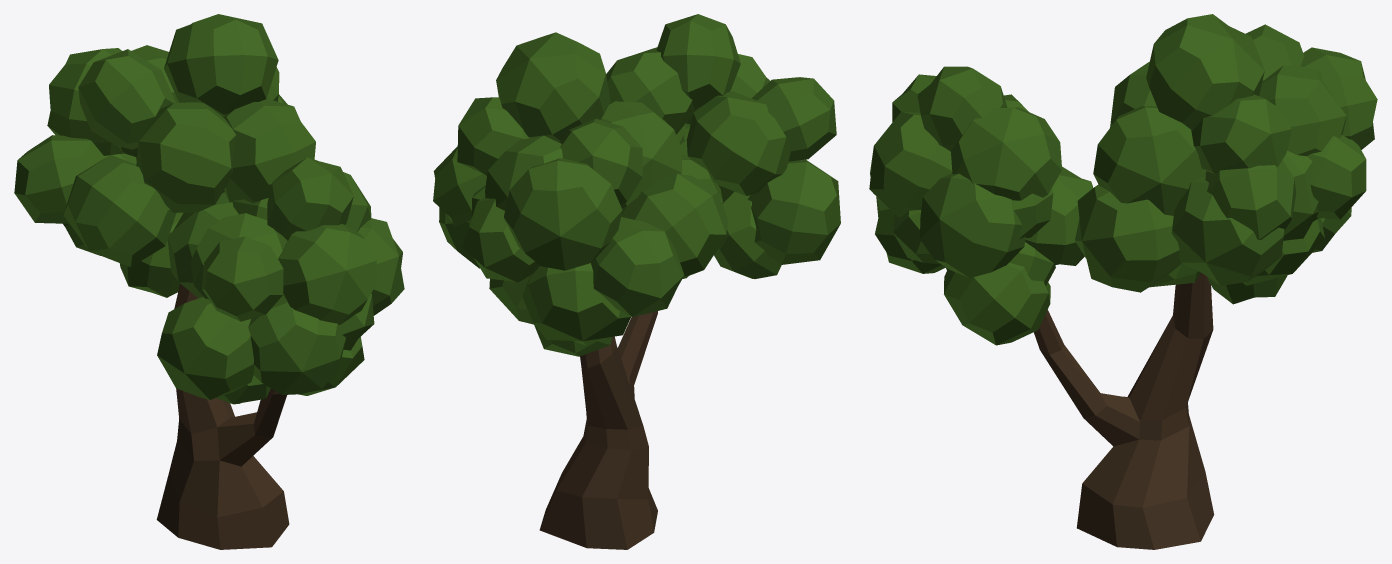
The model's file is Tree_L_C.fbx.
3 views of the same model, side by side, from view 1: azimuth 30°, elevation 25°; view 2: azimuth 150°, elevation 25°; view 3: azimuth 270°, elevation 25° (orthographic). The views are drawn at different scales.
Visible parts, largest first — view 1: Tree_L_C; view 2: Tree_L_C; view 3: Tree_L_C.
Boxes of the visible parts, x1,y1,x2,y2 form: Tree_L_C: (14,14,404,549); Tree_L_C: (433,14,840,549); Tree_L_C: (869,14,1377,549).
Bounding box in the file's own units: 1151 × 2047 × 1843.
